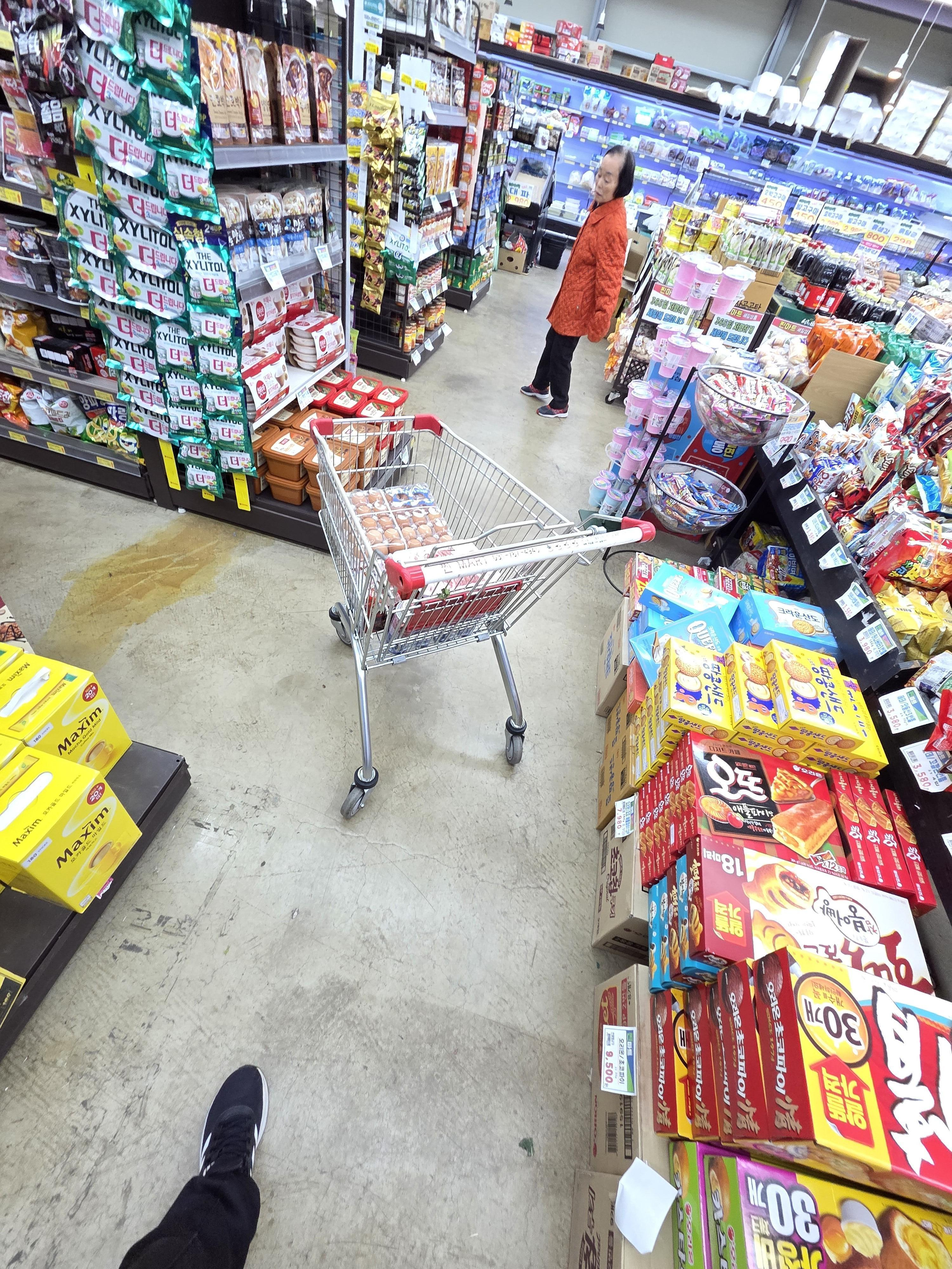fully_cart: (301, 401, 689, 830)
